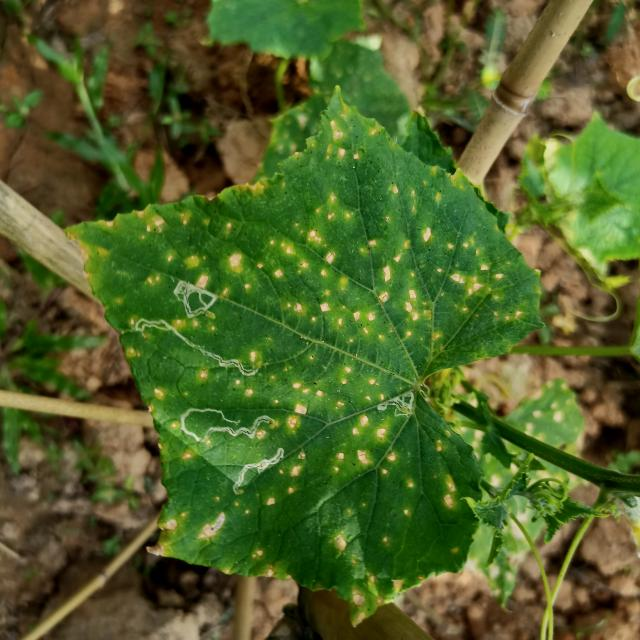disease_cucumber: (122, 120, 517, 362), (331, 414, 445, 510), (286, 365, 386, 445), (333, 530, 401, 624), (149, 497, 248, 558), (266, 451, 310, 511), (198, 369, 255, 397), (252, 547, 296, 577), (444, 471, 456, 514)
